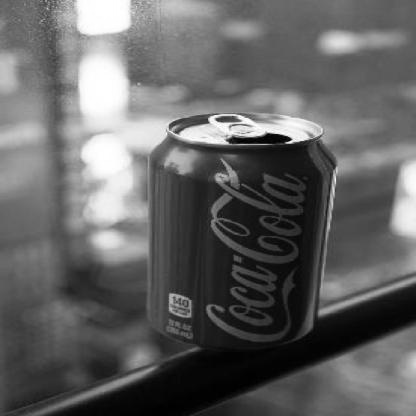alumunium_can: (146, 110, 336, 352)
